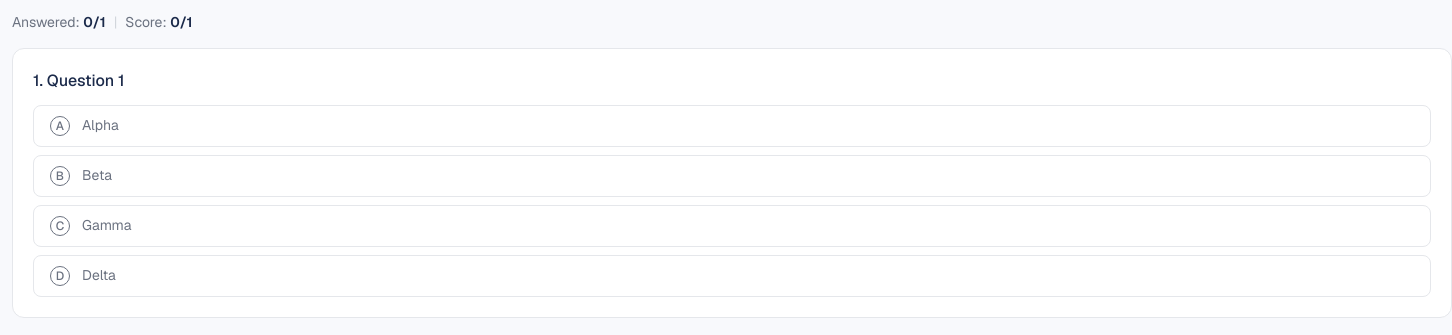
Test case: McqQuestions › disables options after selection
Click the button "A Alpha" at point(100, 125), box [33,105,1431,147]
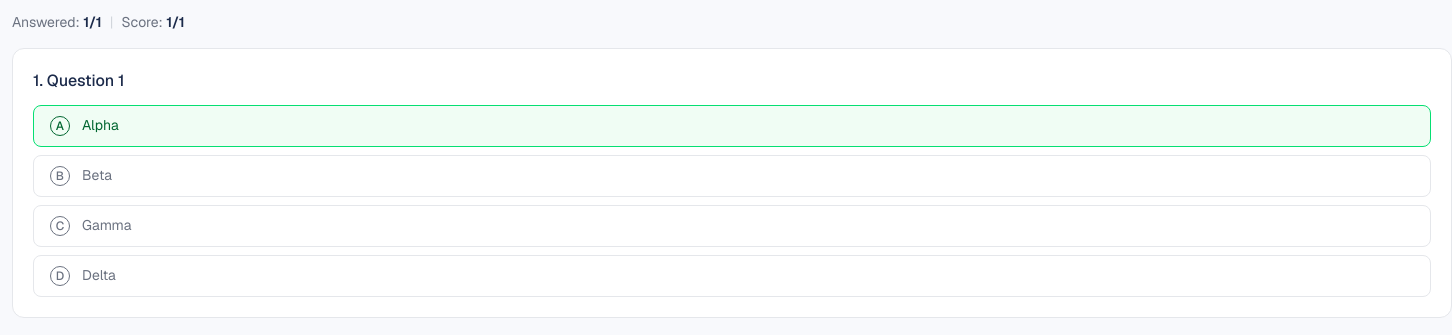
Result: the button "A Alpha" is disabled at [33,105,1431,147]
